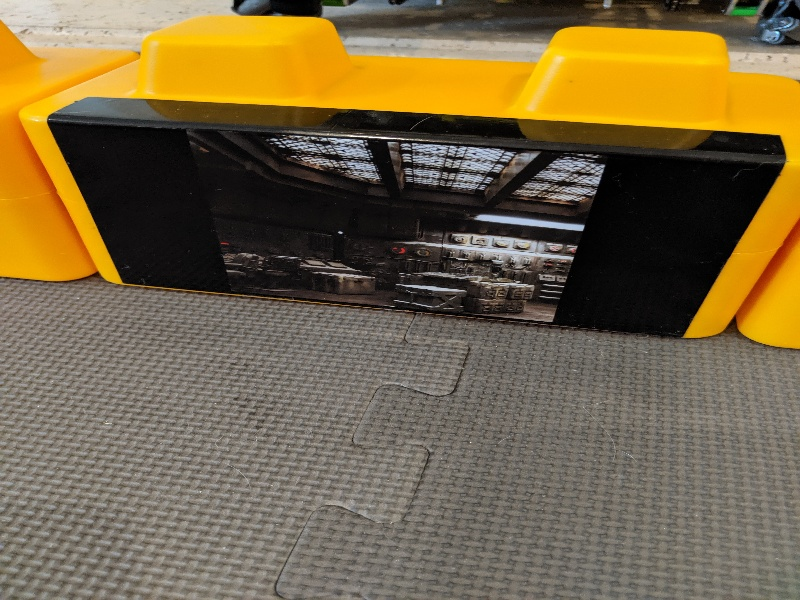Skystone: (38, 90, 790, 350)
